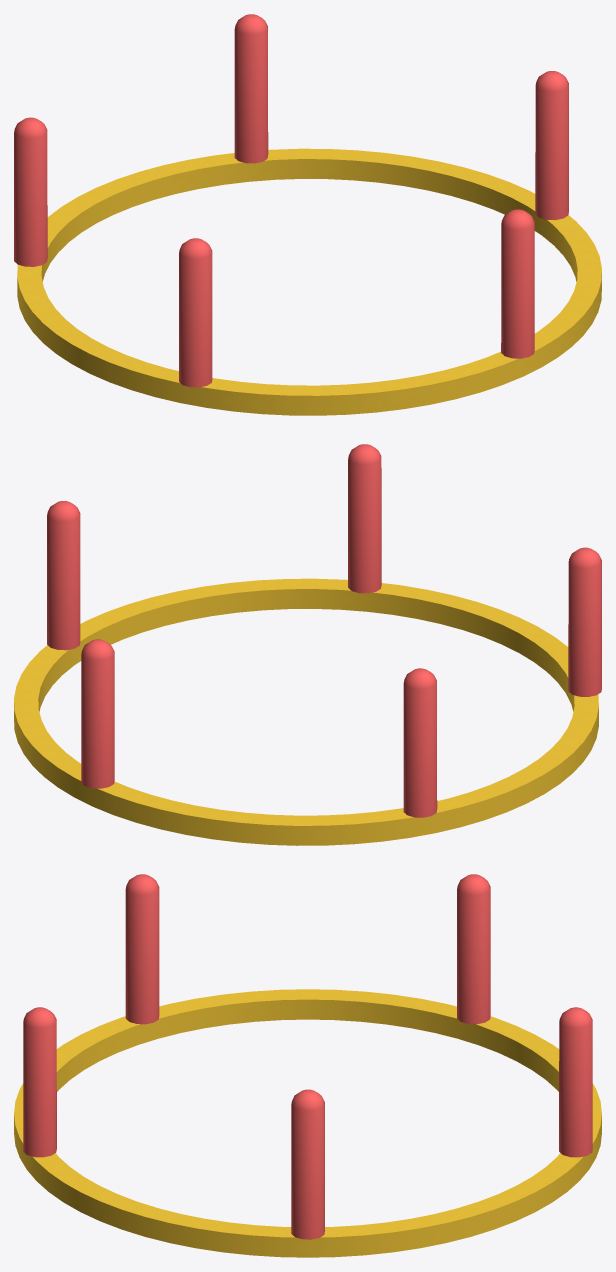
The model's file is stick_big_rotate.FBX.
3 renders of one model, top to bottom at view 1: azimuth 30°, elevation 25°; view 2: azimuth 150°, elevation 25°; view 3: azimuth 270°, elevation 25°, orthographic.
Visible parts, largest first — view 1: stick_big_rotate; view 2: stick_big_rotate; view 3: stick_big_rotate.
Part boxes in pixels (bbox=[...]): stick_big_rotate: bbox=[14, 14, 601, 415]; stick_big_rotate: bbox=[14, 444, 601, 845]; stick_big_rotate: bbox=[14, 874, 601, 1257].
Size of the model in its own units: 13.43 by 4.02 by 13.33.
Materials: 1 (1 with a texture image).
